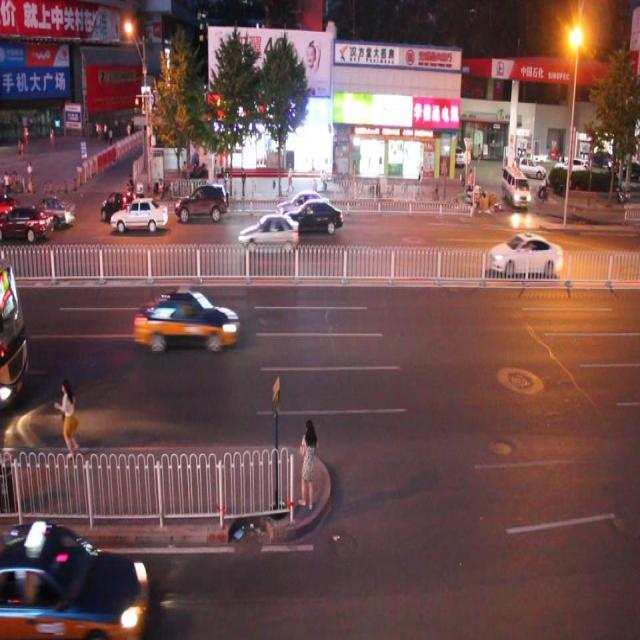car: (0, 520, 148, 640), (132, 287, 239, 352), (487, 230, 562, 276), (237, 212, 300, 253), (282, 194, 344, 235), (176, 179, 236, 220), (16, 188, 73, 228), (110, 194, 169, 232), (0, 202, 54, 242), (277, 184, 332, 223), (103, 185, 147, 225)
